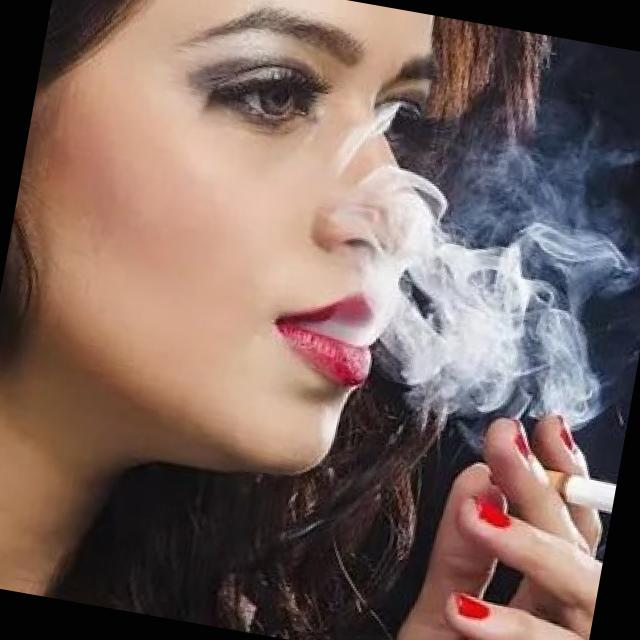cigarette: (522, 458, 618, 524)
